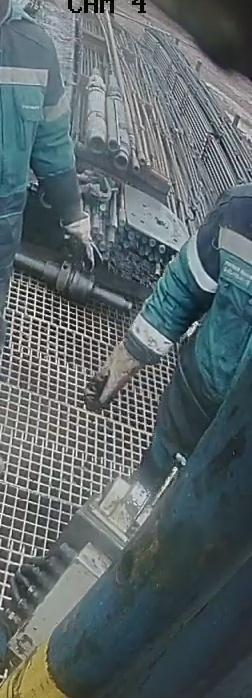gloves: (82, 340, 142, 411), (61, 207, 105, 272)
vest: (142, 181, 252, 418), (0, 16, 64, 206)
